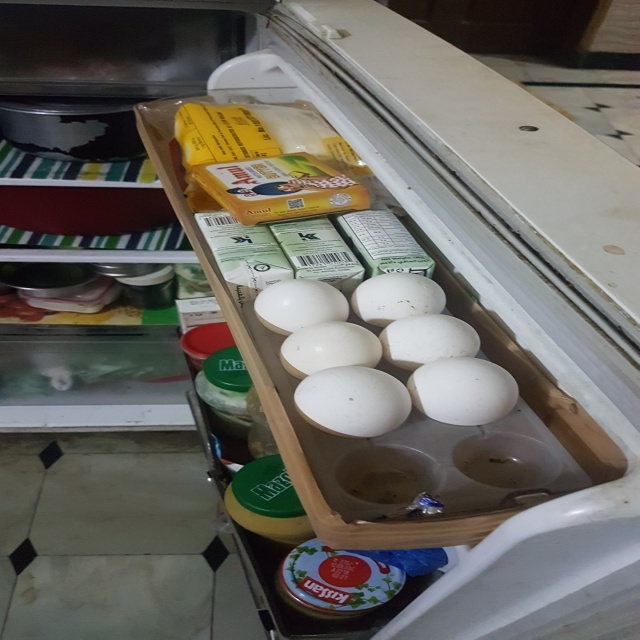butter: (189, 150, 375, 214)
eggs: (404, 353, 528, 433), (296, 360, 414, 439), (376, 307, 483, 368), (349, 269, 446, 333), (282, 319, 382, 374), (255, 279, 350, 331)
